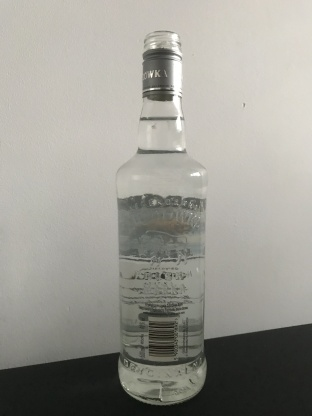nakretka: (140, 28, 184, 100)
